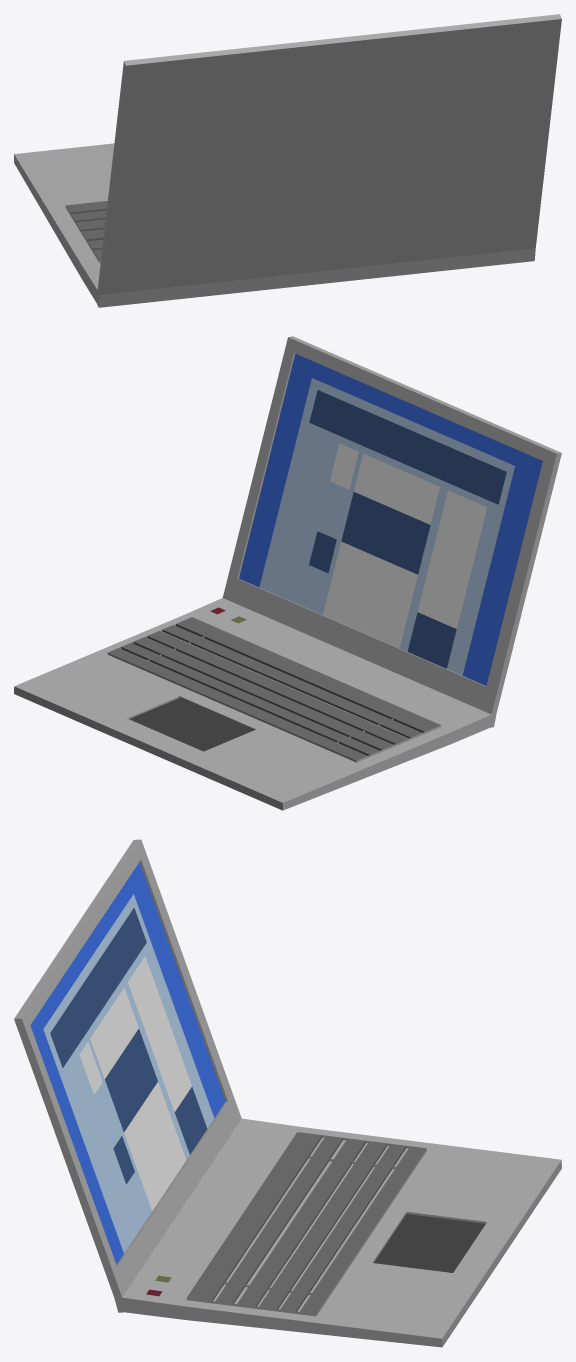
The model's file is laptop ON.fbx.
3 renders of one model, top to bottom at view 1: azimuth 30°, elevation 25°; view 2: azimuth 150°, elevation 25°; view 3: azimuth 270°, elevation 25°, orthographic. The views are drawn at different scales.
Parts seen in each view (by area): view 1: Cube.006; view 2: Cube.006; view 3: Cube.006.
Part boxes in pixels (x1=…): Cube.006: x1=14, y1=14, x2=561, y2=307; Cube.006: x1=14, y1=336, x2=561, y2=810; Cube.006: x1=14, y1=839, x2=561, y2=1347.
Size of the model in its own units: 35.3 by 20.22 by 35.52.
